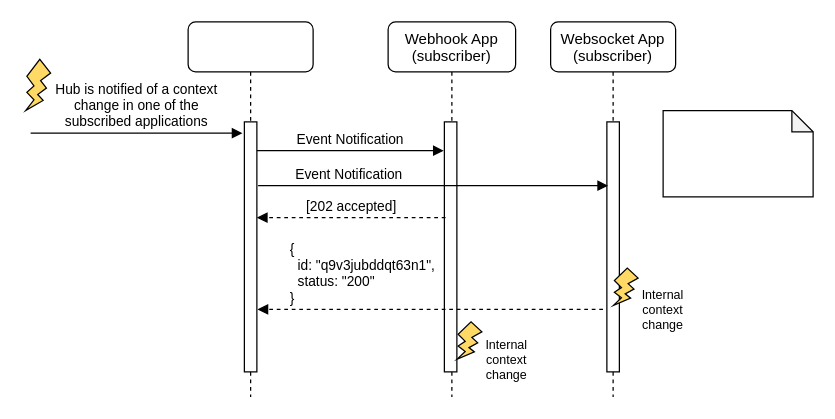
Image size: 835x419. Some labels were removed from this diagram. The box of each missing label's shape, as (x1, y1, x2, y2) in pixels:
Hub: (187, 21, 313, 397)
Hub notifies subscribing applications, either via webhooks or websockets: (662, 109, 813, 197)
